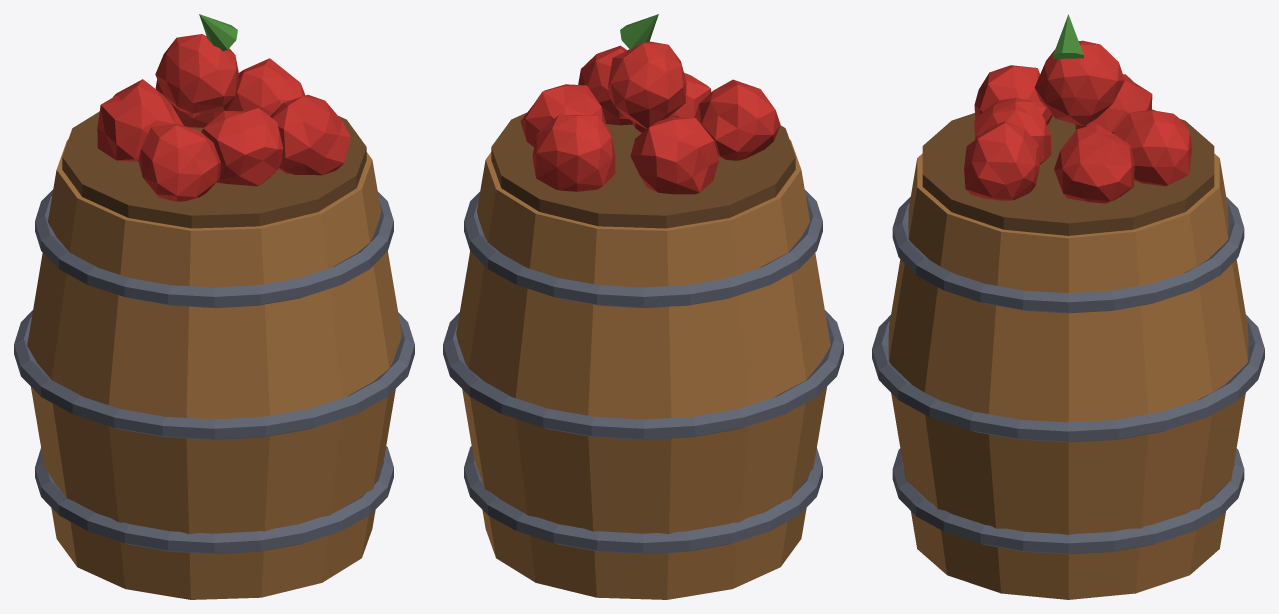
Rendered from barrel_apples.glb.
The picture shows the model from 3 angles, left to right: view 1: azimuth 30°, elevation 25°; view 2: azimuth 150°, elevation 25°; view 3: azimuth 270°, elevation 25°; orthographic projection. The views are drawn at different scales.
Parts seen in each view (by area): view 1: barrel_apples; view 2: barrel_apples; view 3: barrel_apples.
Part boxes in pixels (box(x1,y1,x2,y2)): barrel_apples: box(14, 14, 414, 599); barrel_apples: box(443, 14, 843, 599); barrel_apples: box(872, 14, 1264, 599).
Bounding box in the file's own units: 0.7086 × 1.02 × 0.7086.
